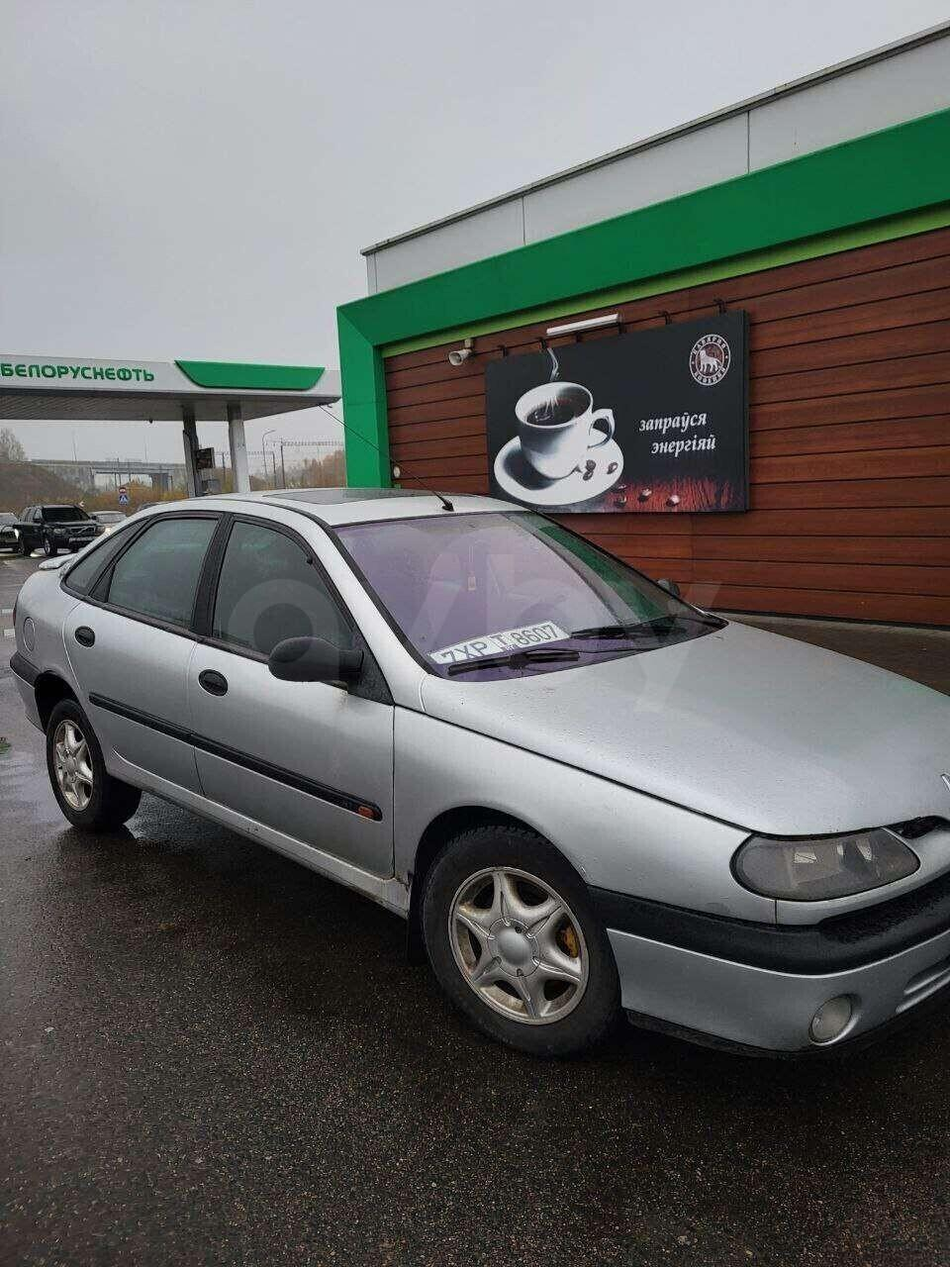Laguna_1998-2001: (5, 482, 950, 1086)
